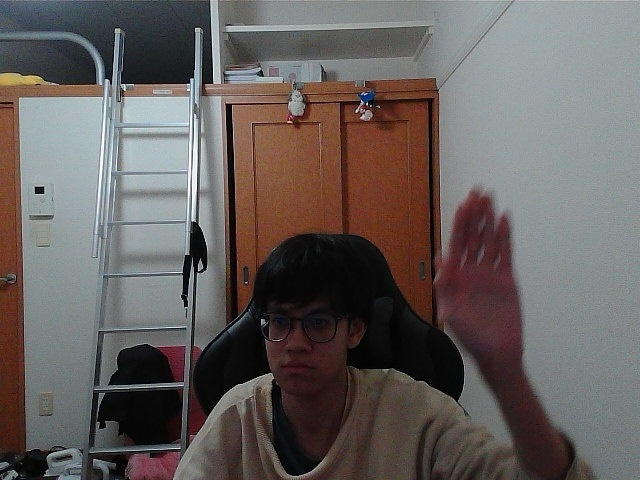open_palm: (443, 196, 505, 354)
